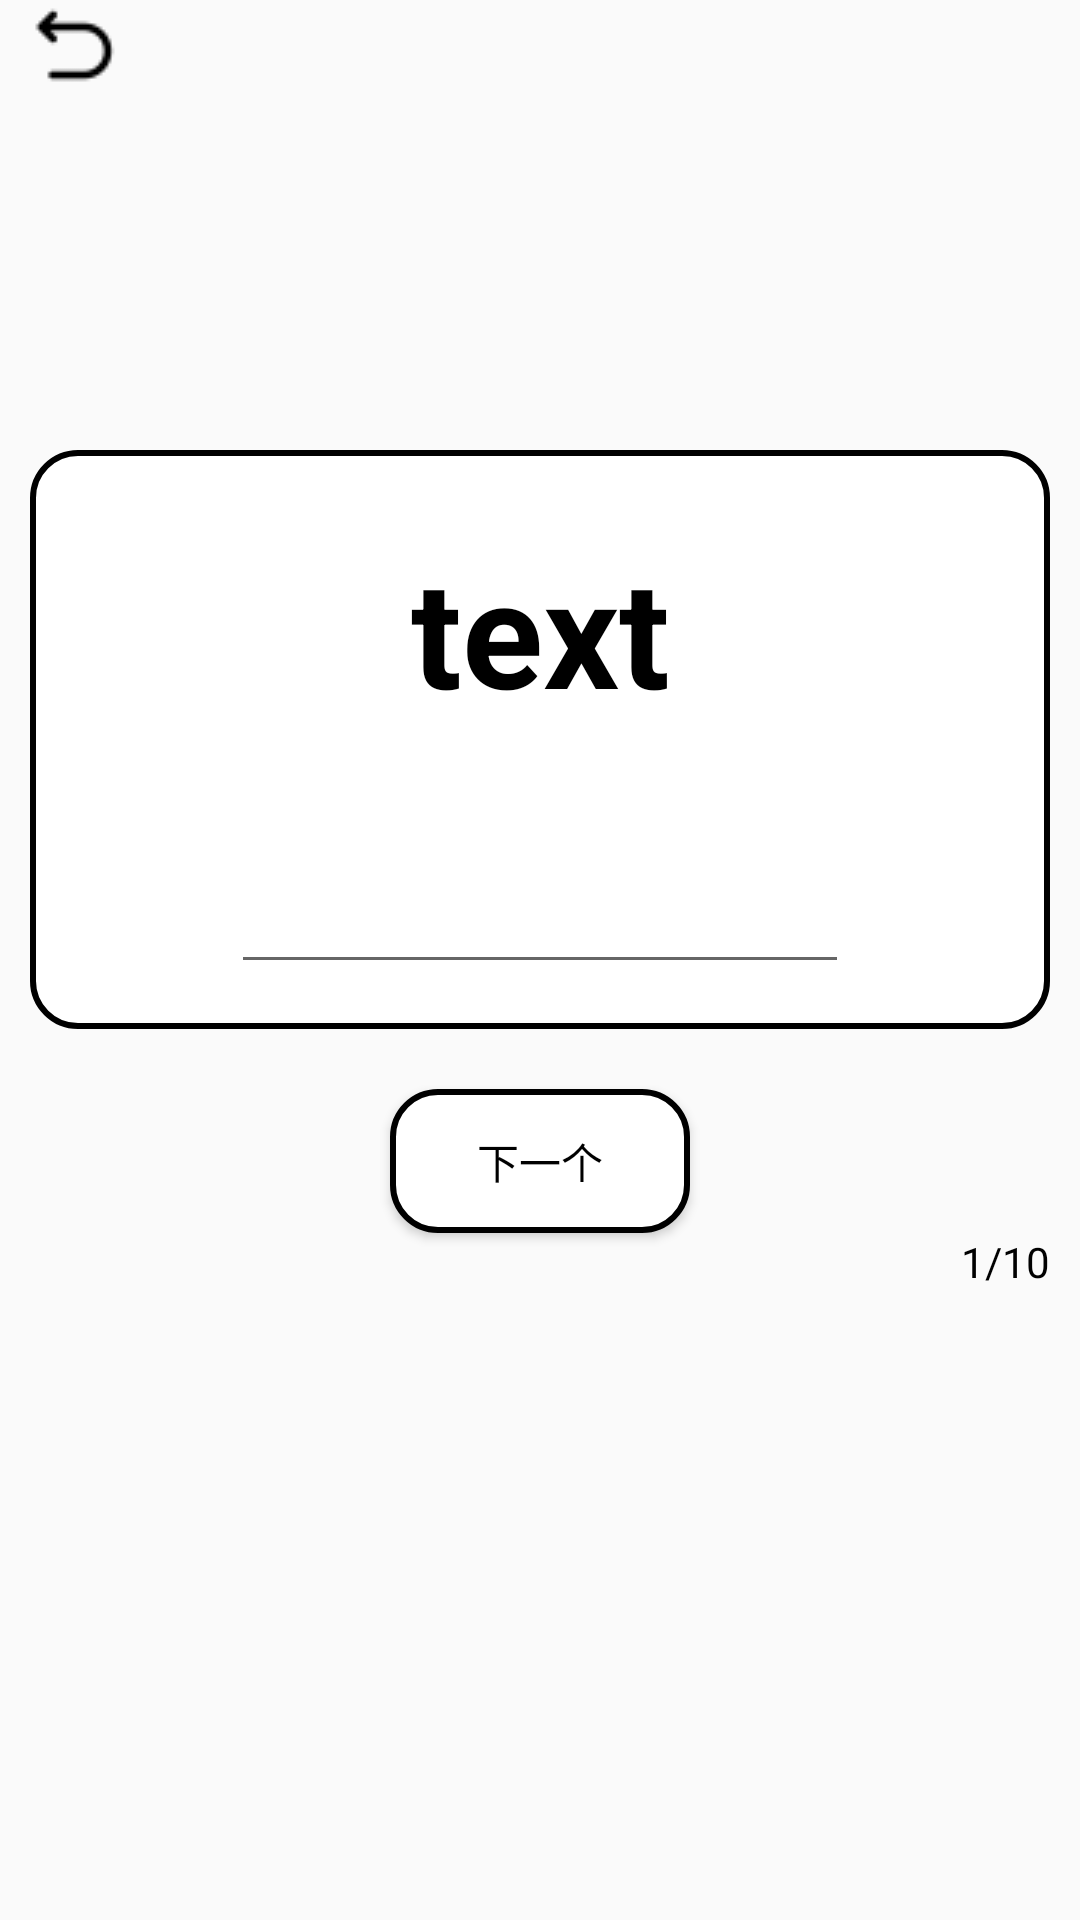

Icons on this 1080 × 1920 Android screen, each with the point to tap as [x,y]:
back: [74,45]
